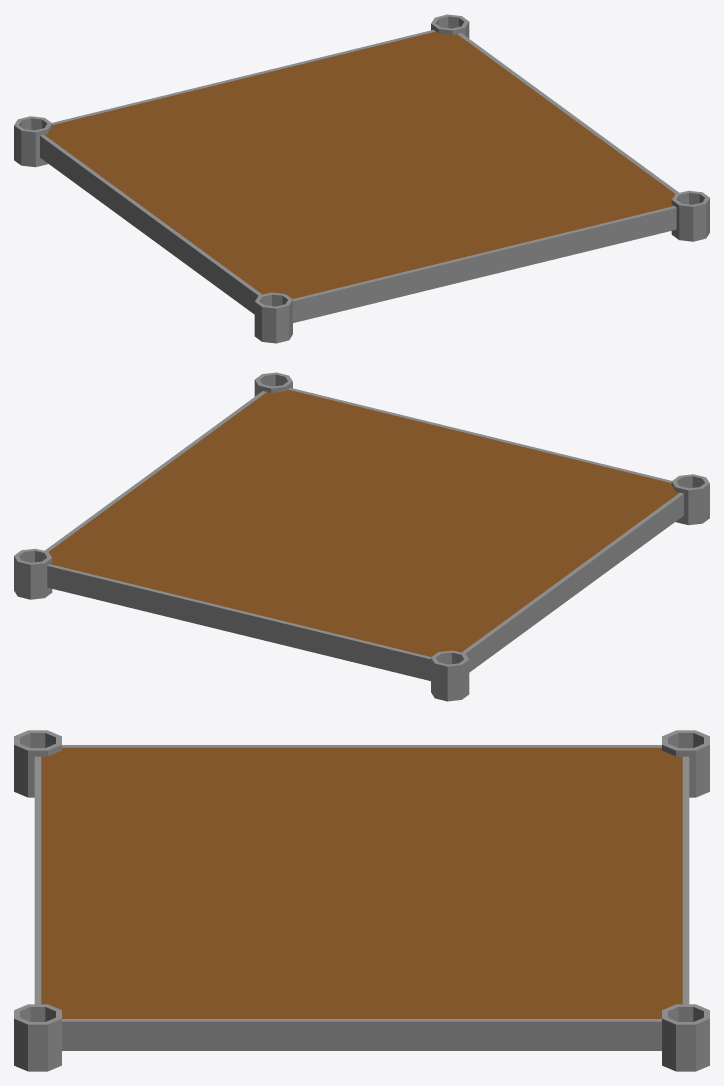
The model's file is MetalRack_Shelf_Board_Half.fbx.
The picture shows the model from 3 angles, top to bottom: view 1: azimuth 30°, elevation 25°; view 2: azimuth 150°, elevation 25°; view 3: azimuth 270°, elevation 25°; orthographic projection. The views are drawn at different scales.
Parts seen in each view (by area): view 1: Shelf_Board_Half; view 2: Shelf_Board_Half; view 3: Shelf_Board_Half.
Boxes of the visible parts, x1,y1,x2,y2 form: Shelf_Board_Half: (14,14,709,343); Shelf_Board_Half: (14,372,709,701); Shelf_Board_Half: (14,730,709,1071).
Bounding box in the file's own units: 53.7 × 4 × 53.7.
